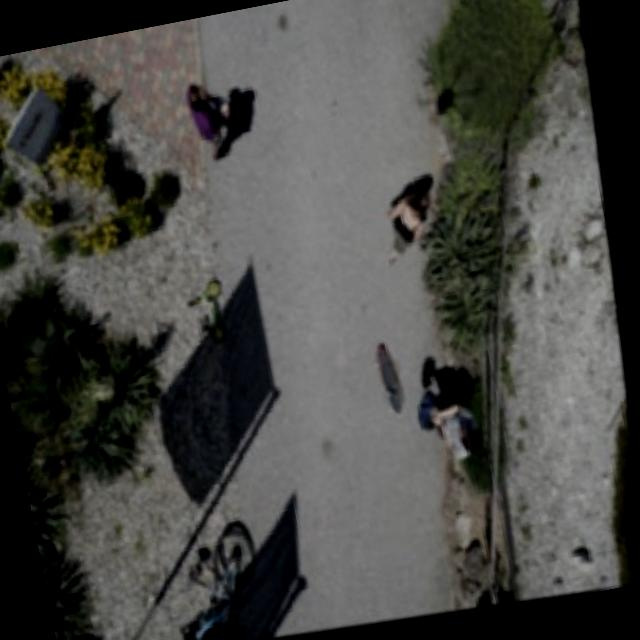Person: (170, 72, 248, 172), (366, 183, 450, 269), (434, 391, 498, 476)
